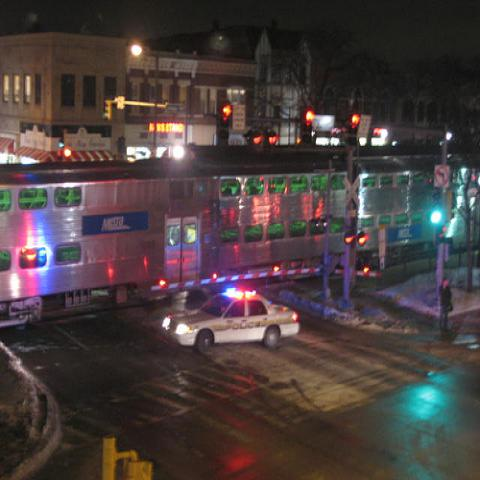car: (160, 286, 300, 357)
